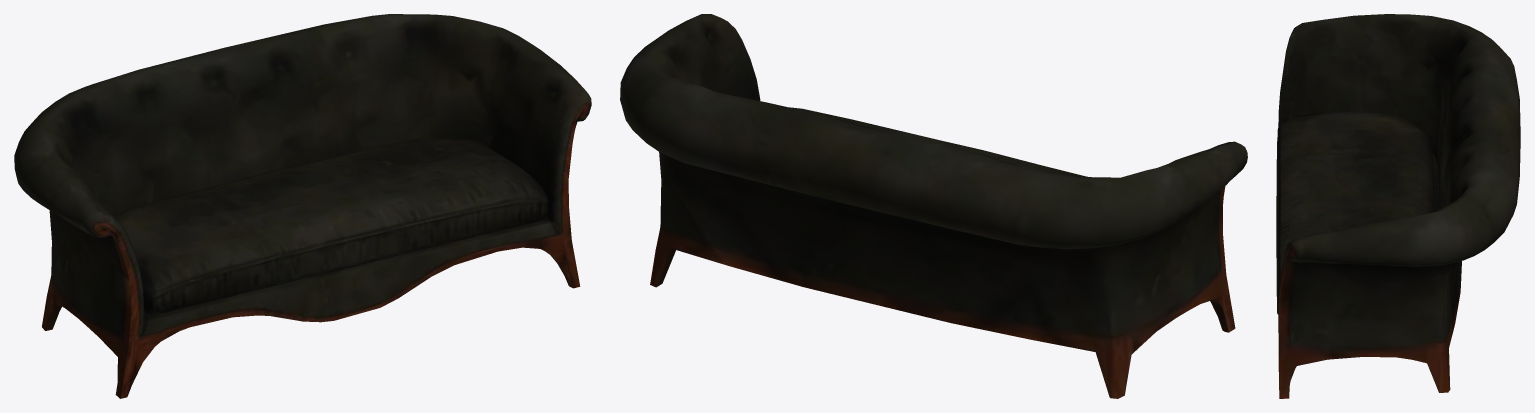
Rendered from sofa_02.glb.
The picture shows the model from 3 angles, left to right: view 1: azimuth 30°, elevation 25°; view 2: azimuth 150°, elevation 25°; view 3: azimuth 270°, elevation 25°; orthographic projection. The views are drawn at different scales.
Visible parts, largest first — view 1: sofa_02_Base, sofa_02_Seat; view 2: sofa_02_Base, sofa_02_Seat; view 3: sofa_02_Base, sofa_02_Seat.
Boxes of the visible parts, <box> form: sofa_02_Base: <box>14,14,591,398</box>; sofa_02_Seat: <box>115,139,549,314</box>; sofa_02_Base: <box>620,14,1247,398</box>; sofa_02_Seat: <box>789,107,1085,176</box>; sofa_02_Base: <box>1278,14,1520,398</box>; sofa_02_Seat: <box>1276,112,1433,314</box>.
Bounding box in the file's own units: 1.81 × 0.7095 × 0.8178.
1 material, 1 textured.
